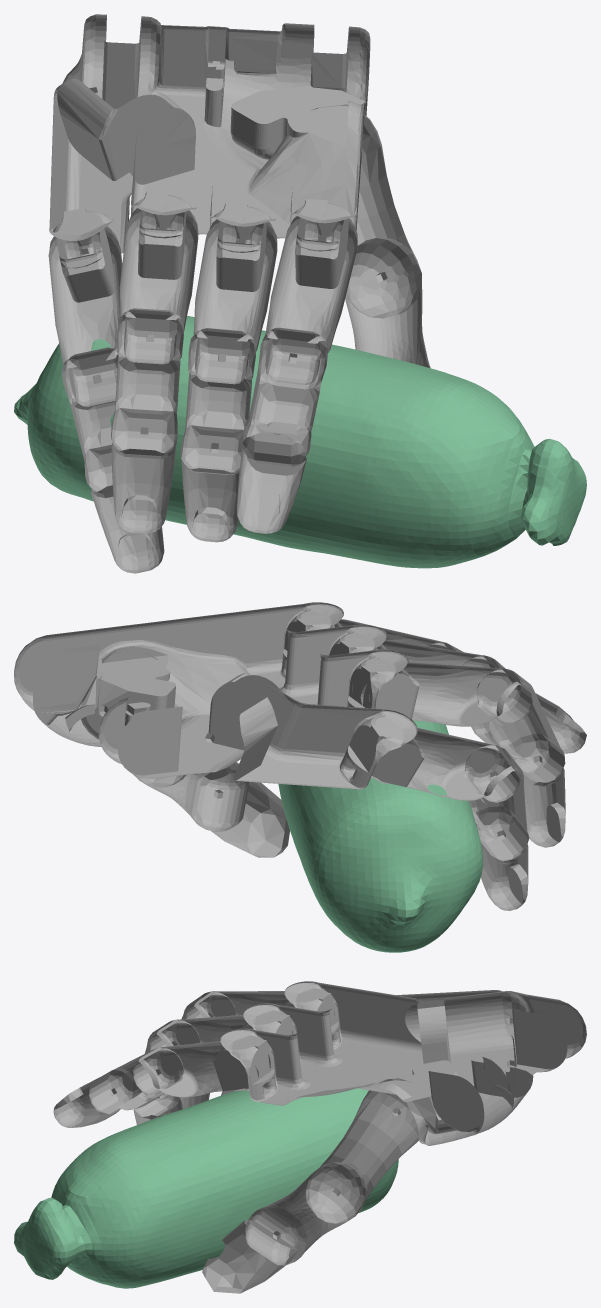
3 renders of one model, top to bottom at view 1: azimuth 30°, elevation 25°; view 2: azimuth 150°, elevation 25°; view 3: azimuth 270°, elevation 25°, orthographic. The views are drawn at different scales.
Parts seen in each view (by area): view 1: world; view 2: world; view 3: world.
Part boxes in pixels (x1,y1,x2,y2): world: [14, 14, 586, 573]; world: [14, 602, 586, 952]; world: [14, 981, 586, 1293].
Bounding box in the file's own units: 0.9303 × 0.691 × 1.38.
